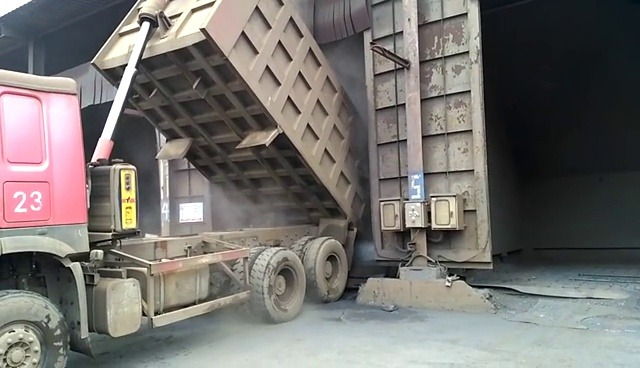dust: (152, 178, 287, 240)
truck: (0, 0, 372, 365)
